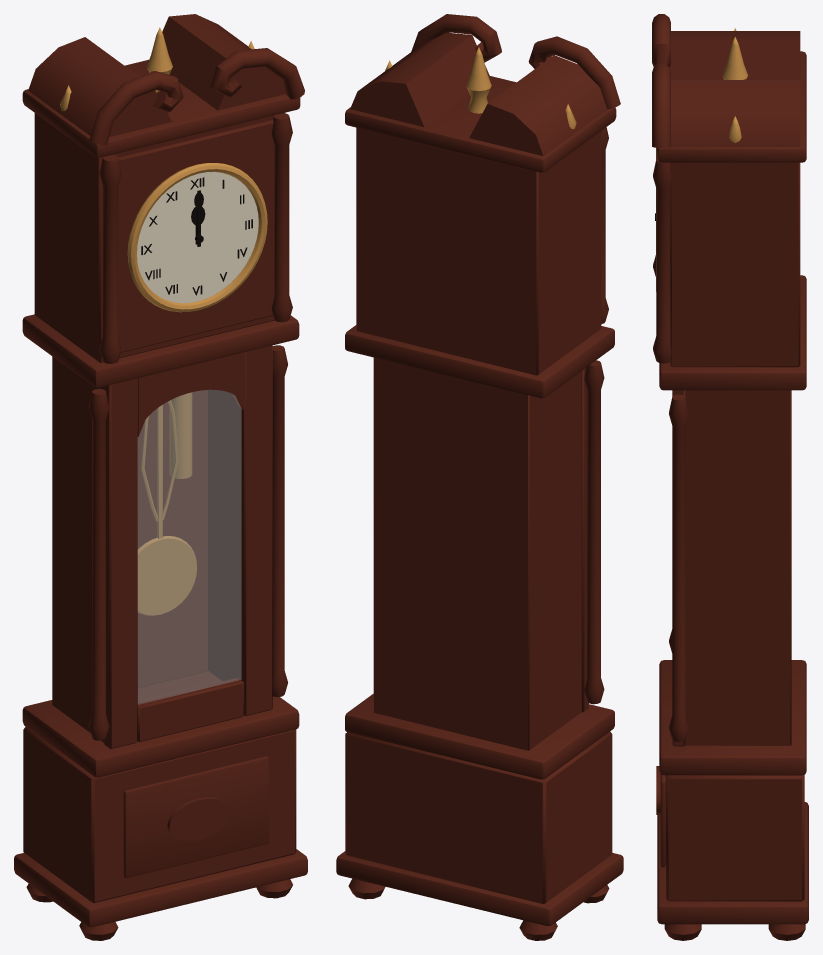
The model's file is GrandClock.glb.
3 renders of one model, left to right at view 1: azimuth 30°, elevation 25°; view 2: azimuth 150°, elevation 25°; view 3: azimuth 270°, elevation 25°, orthographic. The views are drawn at different scales.
Parts seen in each view (by area): view 1: GrandClock_Body, GrandClock_Glass, GrandClock_Face, GrandClock_Pendulum, GrandClock_Brass, GrandClock_Weights, GrandClock_Numerals; view 2: GrandClock_Body, GrandClock_Brass; view 3: GrandClock_Body, GrandClock_Brass.
Part boxes in pixels (x1=…): GrandClock_Body: x1=14, y1=14, x2=307, y2=940; GrandClock_Glass: x1=138, y1=390, x2=241, y2=704; GrandClock_Face: x1=137, y1=172, x2=258, y2=303; GrandClock_Pendulum: x1=137, y1=400, x2=196, y2=615; GrandClock_Brass: x1=60, y1=27, x2=267, y2=312; GrandClock_Weights: x1=169, y1=392, x2=192, y2=478; GrandClock_Numerals: x1=141, y1=177, x2=252, y2=295; GrandClock_Body: x1=336, y1=14, x2=623, y2=940; GrandClock_Brass: x1=385, y1=47, x2=576, y2=129; GrandClock_Body: x1=652, y1=14, x2=808, y2=940; GrandClock_Brass: x1=656, y1=28, x2=748, y2=291.
Bounding box in the file's own units: 0.58 × 2.18 × 0.362.
